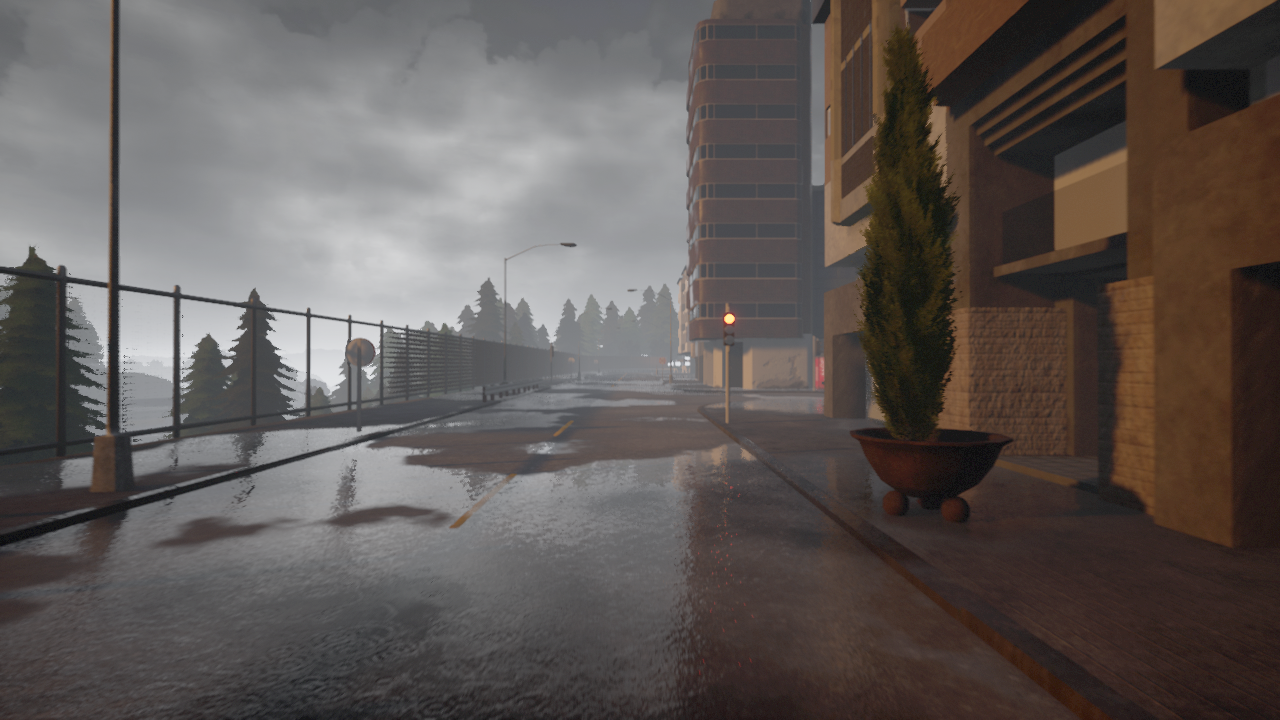red: (722, 311, 735, 348)
